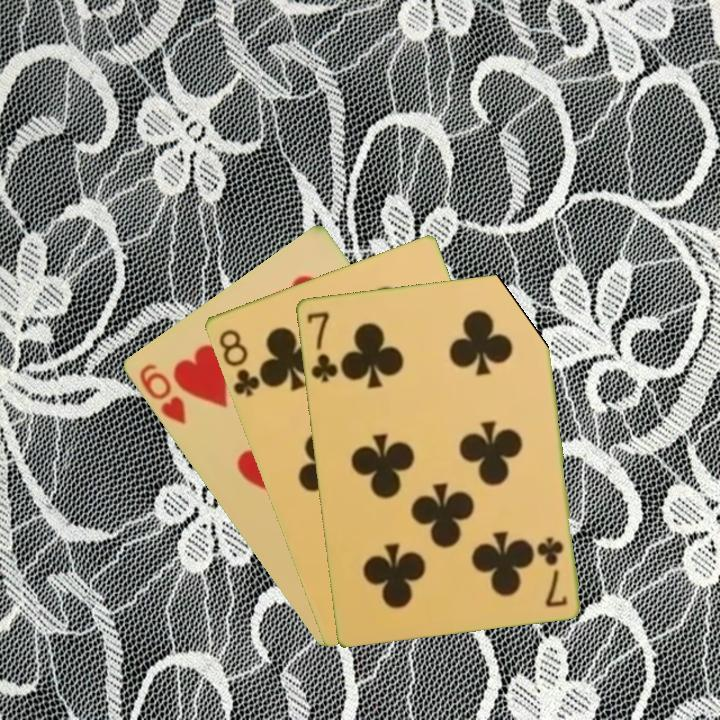6h: (135, 360, 189, 428)
7c: (303, 307, 340, 384), (535, 533, 570, 610)
8c: (214, 325, 266, 400)
